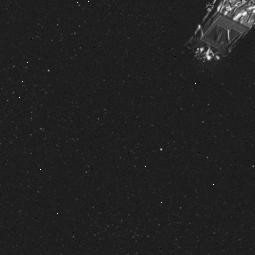lisa_pathfinder: (167, 0, 255, 72)
